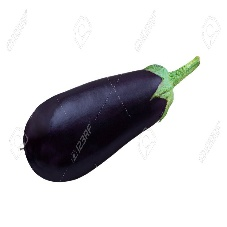eggplant: (25, 64, 178, 184)
